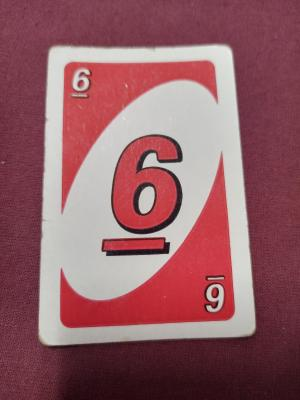num_6: (97, 128, 186, 262), (198, 267, 231, 319), (65, 64, 106, 104)
